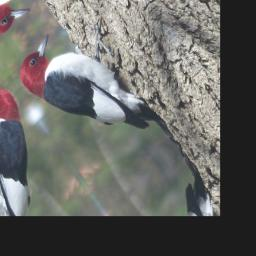Woodpecker: (10, 0, 170, 186)
